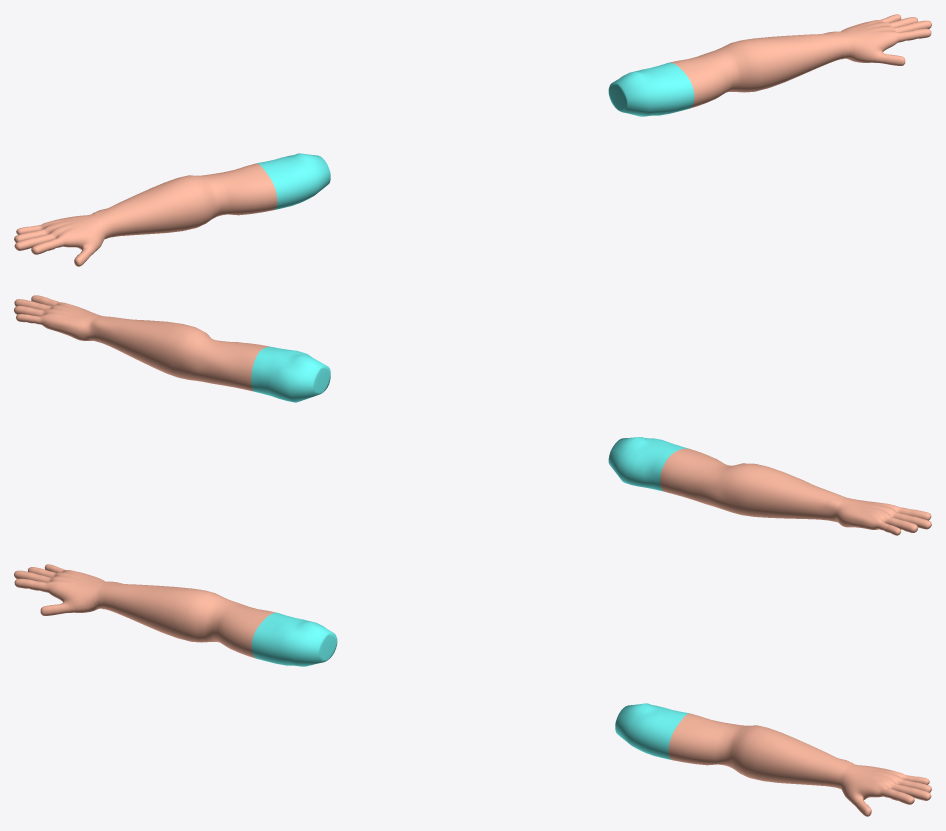
The model's file is Arm Model V1.fbx.
3 renders of one model, top to bottom at view 1: azimuth 30°, elevation 25°; view 2: azimuth 150°, elevation 25°; view 3: azimuth 330°, elevation 25°, orthographic.
Parts seen in each view (by area): view 1: Arm Model F; view 2: Arm Model F; view 3: Arm Model F.
Part boxes in pixels (x1,y1,x2,y2): Arm Model F: (14, 14, 931, 266); Arm Model F: (14, 295, 931, 535); Arm Model F: (14, 564, 931, 816).
Size of the model in its own units: 2.46 by 0.1192 by 0.1808.
